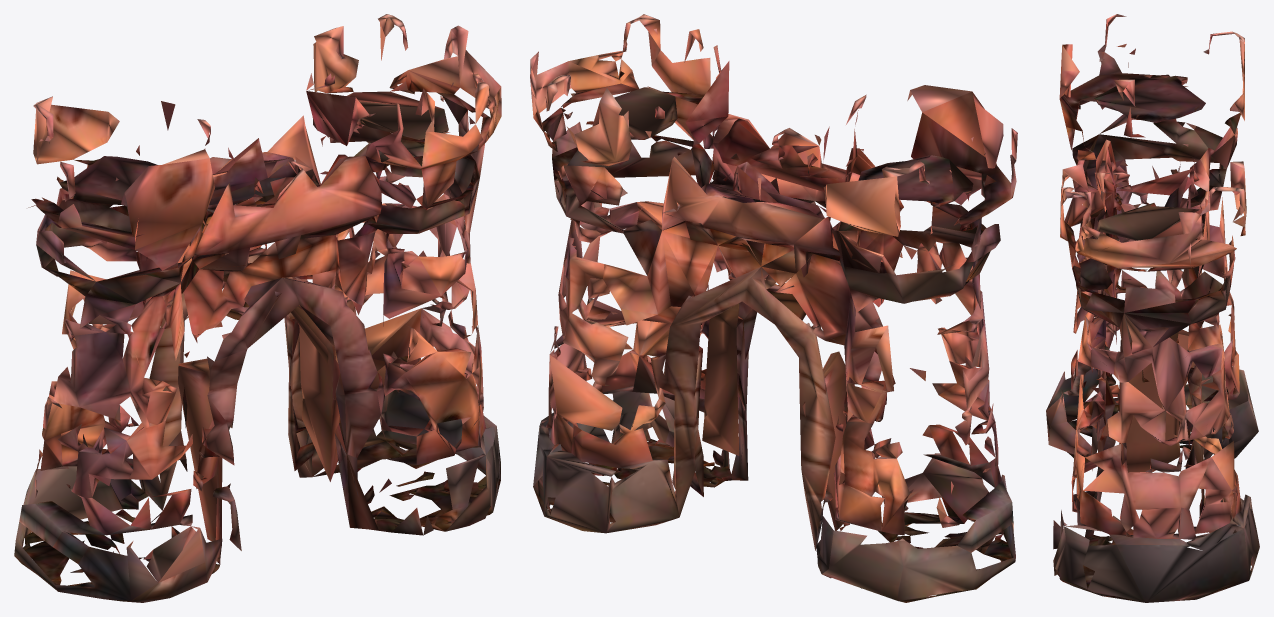
The model's file is lg-castle-gatehouse.glb.
The picture shows the model from 3 angles, left to right: view 1: azimuth 30°, elevation 25°; view 2: azimuth 150°, elevation 25°; view 3: azimuth 270°, elevation 25°; orthographic projection. The views are drawn at different scales.
Visible parts, largest first — view 1: geometry_0; view 2: geometry_0; view 3: geometry_0.
Boxes of the visible parts, x1,y1,x2,y2 form: geometry_0: (14,14,501,602); geometry_0: (530,14,1017,602); geometry_0: (1046,14,1259,602).
Size of the model in its own units: 1 by 0.9098 by 0.4424.
Materials: 1 (1 with a texture image).
